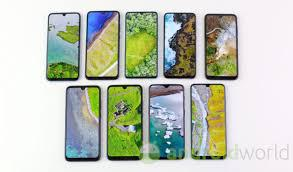Smartphone: (65, 83, 102, 161), (107, 84, 144, 158), (190, 84, 224, 162), (149, 84, 186, 155), (84, 10, 119, 81), (123, 11, 159, 78), (163, 12, 197, 79), (49, 12, 80, 80), (208, 13, 236, 82)
